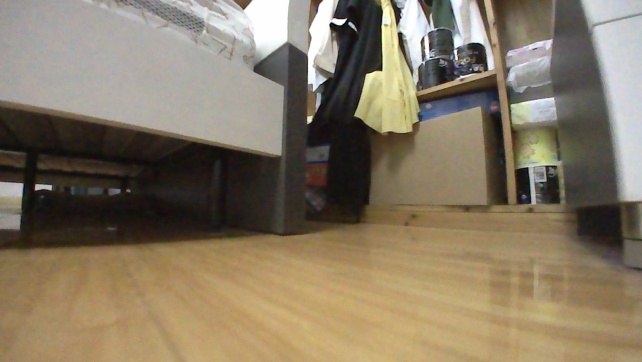bed1: (0, 0, 317, 236)
